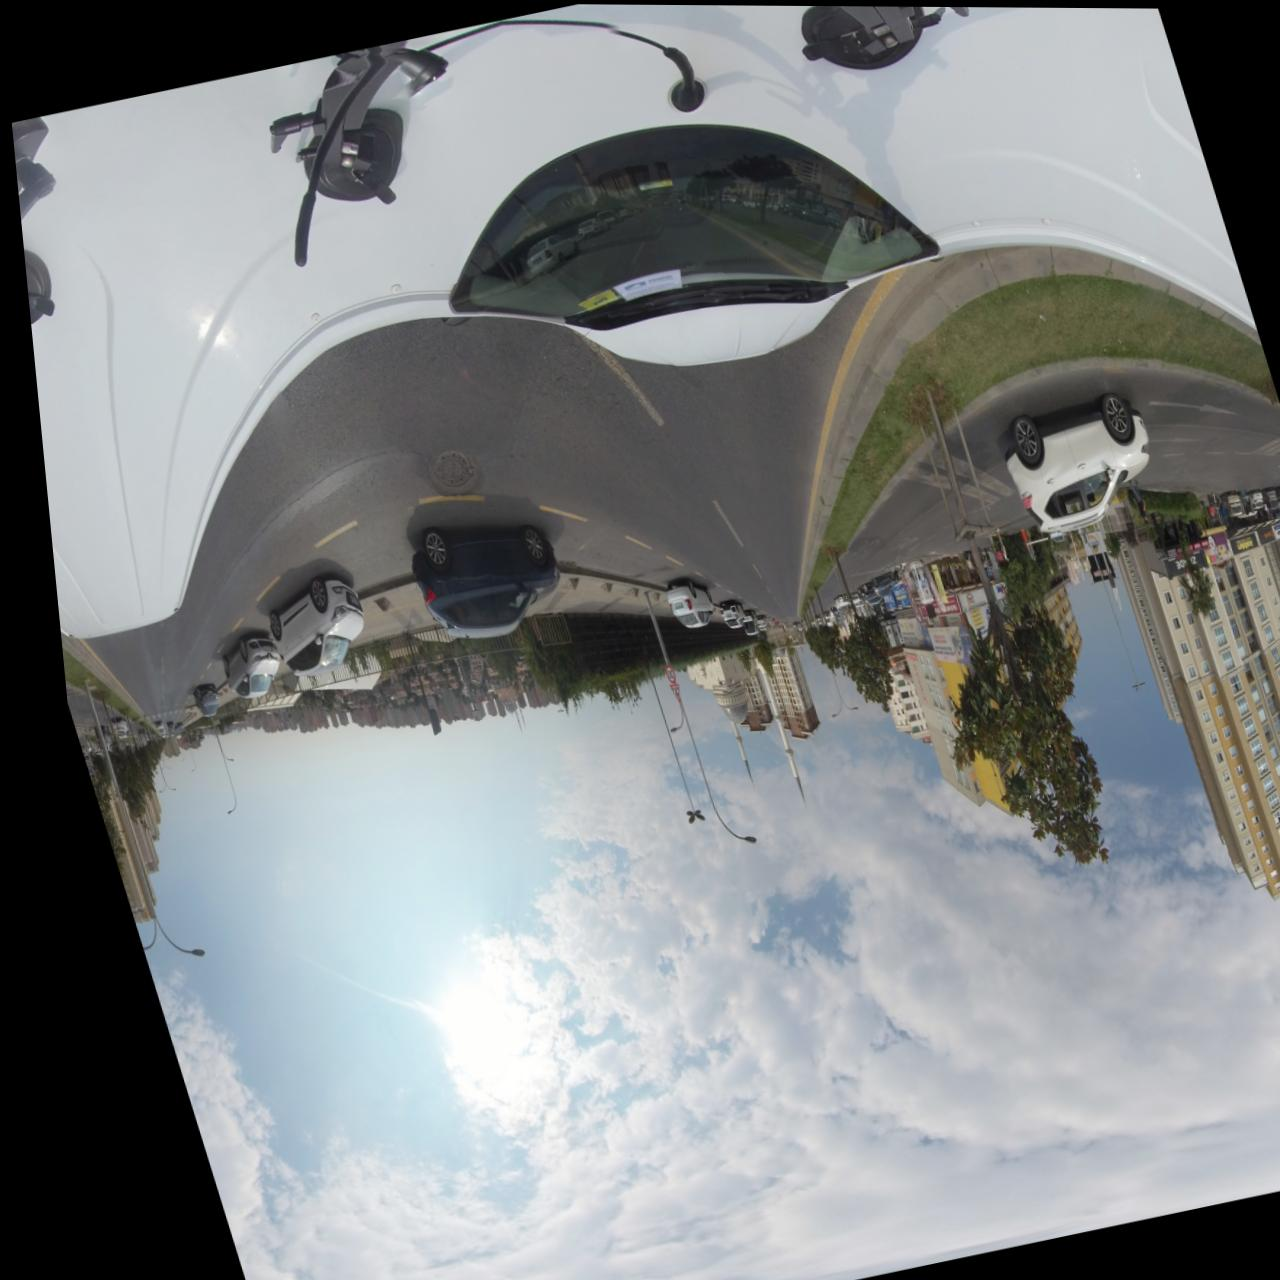SignStore: (1219, 531, 1244, 552), (1245, 525, 1262, 540), (1264, 524, 1276, 535)
